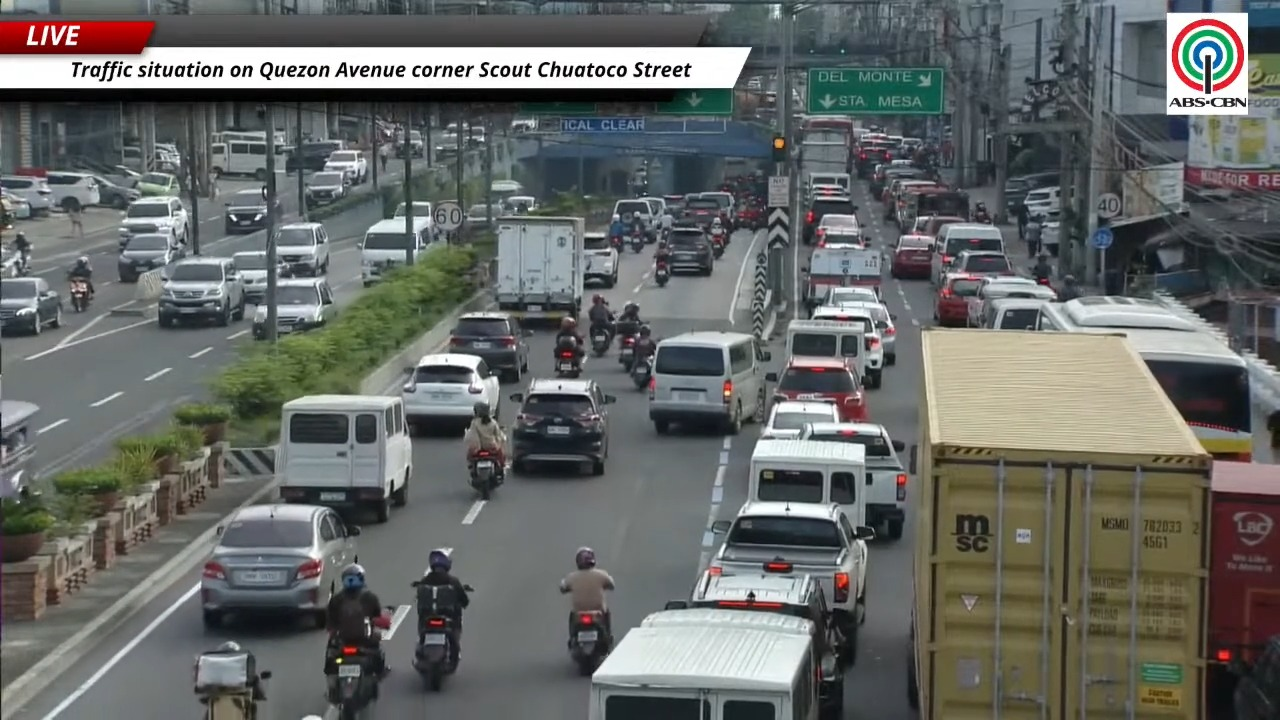bus: (1037, 296, 1253, 461), (588, 608, 821, 719), (209, 139, 266, 180), (802, 116, 854, 136), (209, 130, 265, 143)
car: (664, 571, 852, 719), (200, 504, 359, 628), (800, 423, 908, 539), (510, 379, 615, 475), (402, 352, 500, 430), (766, 356, 867, 421), (811, 303, 885, 388), (157, 257, 245, 327), (448, 311, 532, 381), (930, 222, 1005, 285), (969, 277, 1056, 326), (838, 300, 896, 364), (274, 277, 336, 335), (0, 276, 61, 333), (117, 232, 185, 281), (119, 197, 190, 243), (275, 222, 330, 277), (760, 401, 839, 438), (802, 196, 857, 244), (934, 273, 981, 326), (883, 179, 936, 225), (1005, 172, 1059, 216), (977, 297, 1049, 329), (668, 225, 714, 275), (45, 171, 101, 211), (0, 175, 53, 215), (224, 188, 267, 234), (869, 164, 925, 199), (890, 234, 933, 278), (584, 233, 618, 287), (613, 198, 656, 240), (285, 141, 342, 172), (949, 250, 1015, 275), (93, 175, 140, 209), (854, 137, 892, 178), (305, 171, 347, 208), (323, 149, 367, 184), (815, 214, 865, 244), (700, 191, 735, 233), (680, 194, 719, 227), (412, 200, 442, 241), (1023, 186, 1060, 218), (820, 287, 880, 306), (464, 203, 503, 231), (135, 172, 180, 196), (921, 216, 967, 238), (0, 190, 31, 222), (807, 183, 847, 200), (277, 257, 290, 277)
motorcycle: (326, 643, 379, 719), (196, 670, 271, 719), (412, 615, 456, 691), (568, 611, 611, 675), (469, 449, 503, 500), (201, 689, 256, 719), (555, 341, 581, 378), (69, 277, 90, 312), (2, 250, 29, 277), (630, 356, 651, 390), (591, 326, 611, 357), (618, 334, 634, 371), (711, 230, 725, 259), (13, 253, 30, 276), (654, 263, 669, 286), (630, 232, 645, 253), (610, 234, 623, 251), (974, 212, 991, 223), (1035, 277, 1050, 286)
truck: (907, 329, 1211, 719), (708, 501, 874, 663), (1206, 461, 1279, 717), (493, 216, 585, 320), (801, 242, 883, 311), (799, 129, 851, 187)
